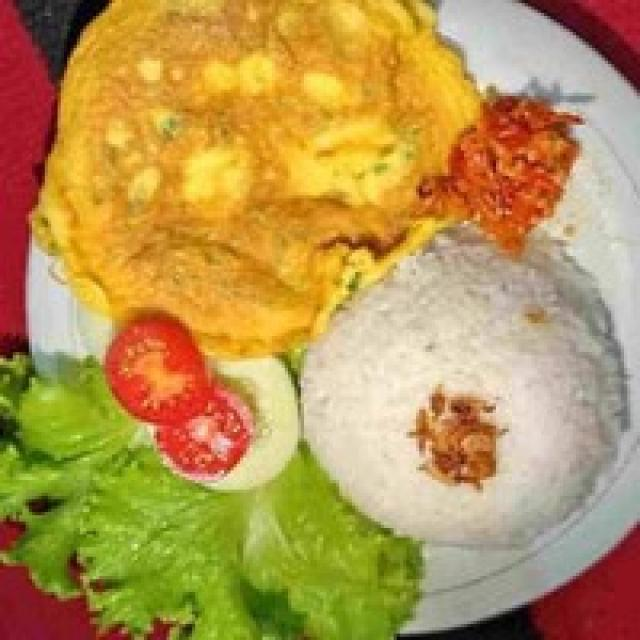nasi_putih: (310, 240, 624, 548)
telur_ayam_dadar: (29, 0, 469, 349)
